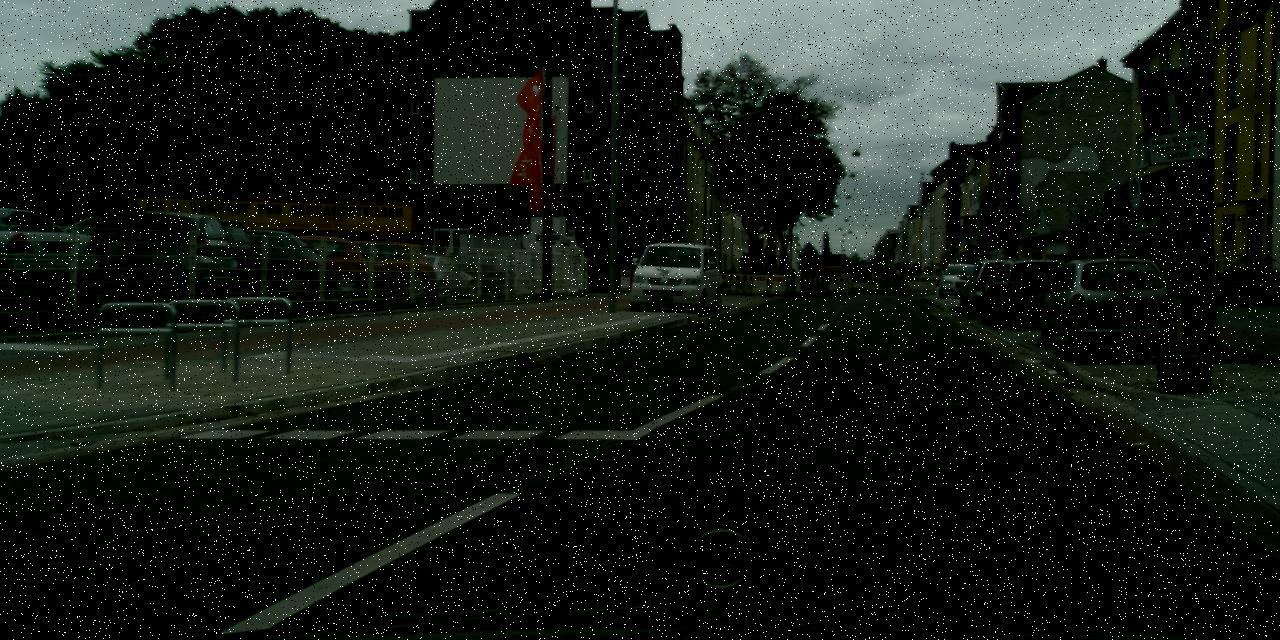ped: (1150, 240, 1180, 314), (892, 262, 904, 290)
